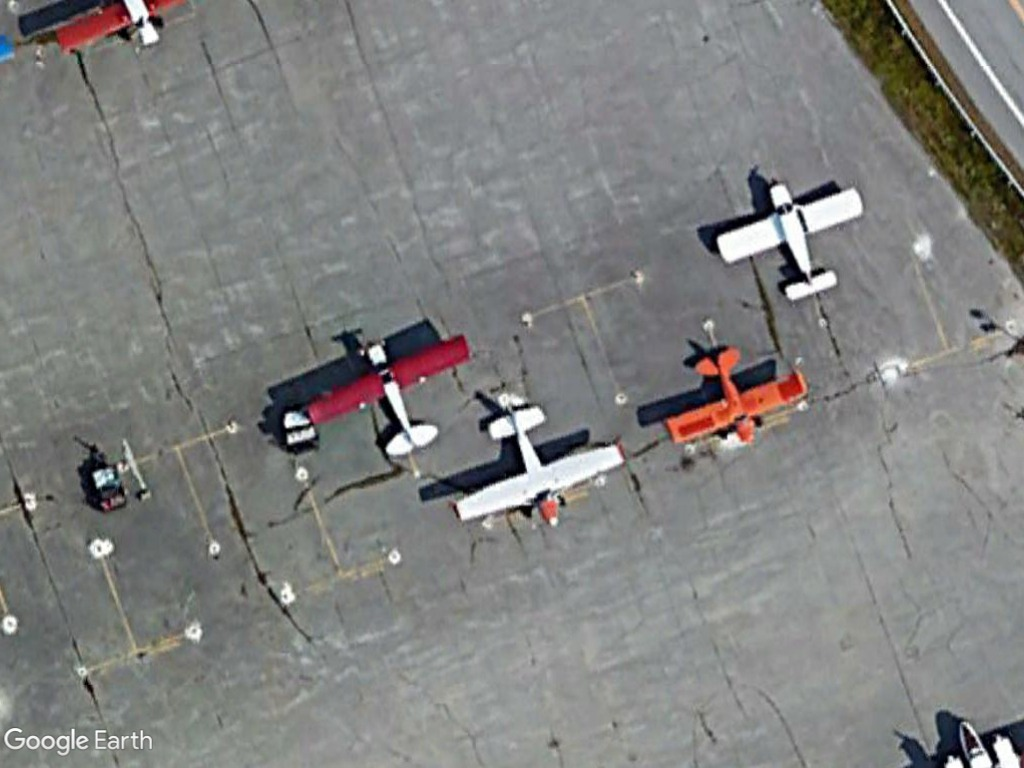trainer: (446, 394, 634, 539), (298, 326, 478, 462), (710, 175, 866, 306), (655, 337, 811, 452)
